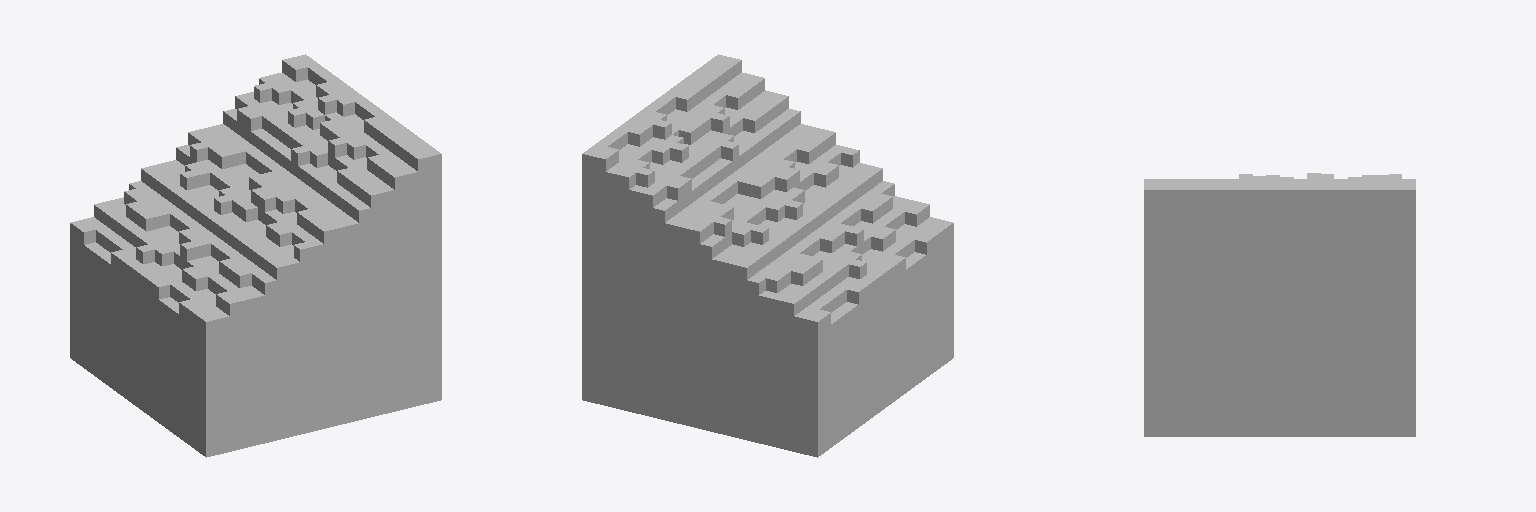
The model's file is stairs.obj.
3 views of the same model, side by side, from view 1: azimuth 30°, elevation 25°; view 2: azimuth 150°, elevation 25°; view 3: azimuth 270°, elevation 25° (orthographic).
Parts seen in each view (by area): view 1: object 1; view 2: object 1; view 3: object 1.
Boxes of the visible parts, x1=… form: object 1: x1=70, y1=54, x2=441, y2=457; object 1: x1=582, y1=54, x2=953, y2=457; object 1: x1=1144, y1=173, x2=1415, y2=436.
Size of the model in its own units: 2 by 2 by 2.